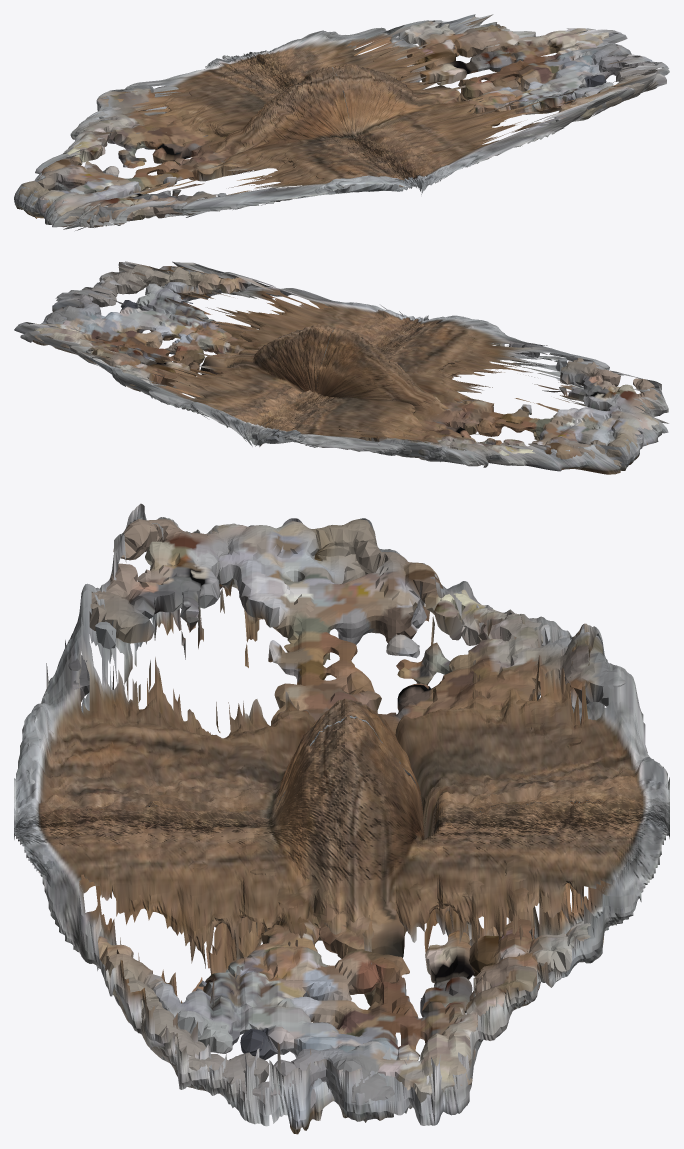
Rendered from mesh_inpaint.glb.
3 views of the same model, one above another, from view 1: azimuth 30°, elevation 25°; view 2: azimuth 150°, elevation 25°; view 3: azimuth 270°, elevation 25° (orthographic). The views are drawn at different scales.
Parts seen in each view (by area): view 1: ipn, fill; view 2: ipn, fill; view 3: ipn, fill.
Part boxes in pixels (<box>): ipn: <box>14,14,669,230</box>; fill: <box>18,21,658,227</box>; ipn: <box>14,261,668,474</box>; fill: <box>32,265,660,469</box>; ipn: <box>14,503,669,1134</box>; fill: <box>26,519,661,1120</box>.
Bounding box in the file's own units: 1.99 × 0.3497 × 0.9423.
Materials: 2 (1 with a texture image).
